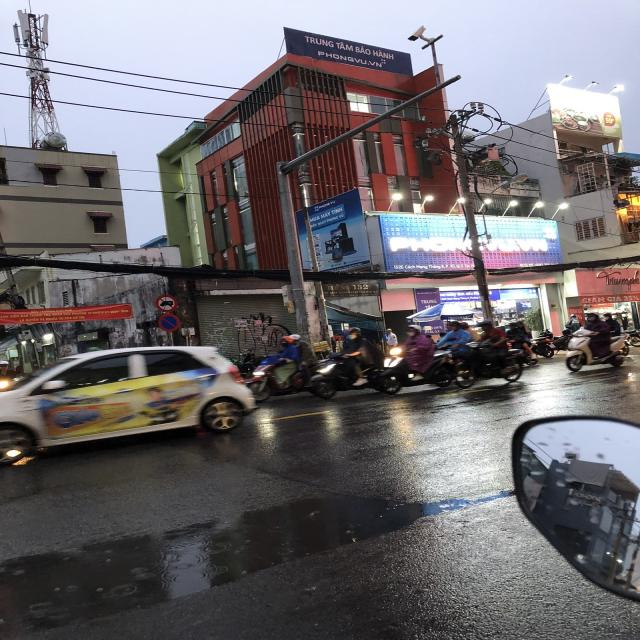Bien bao cam do xe: (157, 313, 183, 333)
Bien bao cam xe oto tai: (152, 292, 178, 312)
